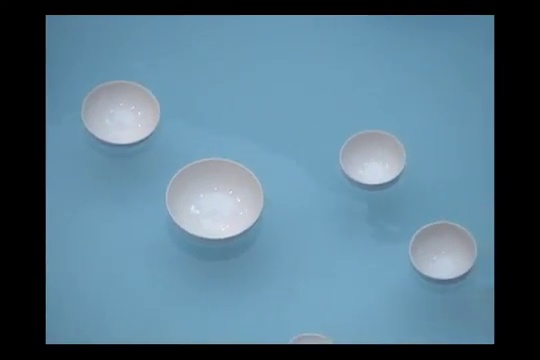bowl: (165, 157, 264, 245), (80, 80, 161, 149), (408, 220, 478, 284), (339, 130, 405, 190), (290, 331, 332, 343)
